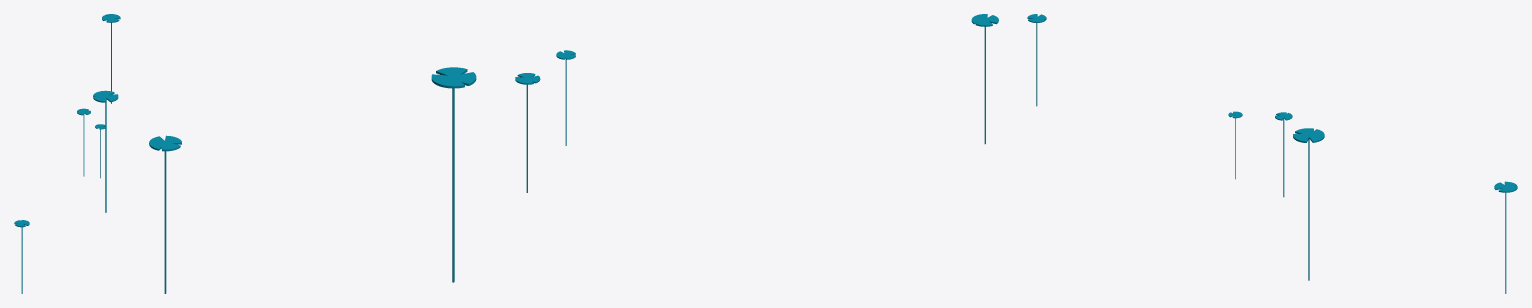
The model's file is lilygroup6.fbx.
The picture shows the model from 3 angles, left to right: view 1: azimuth 30°, elevation 25°; view 2: azimuth 150°, elevation 25°; view 3: azimuth 270°, elevation 25°; orthographic projection. The views are drawn at different scales.
Parts seen in each view (by area): view 1: LilyPad1 (2), LilyPad1 (6), LilyPad1 (5), LilyPad1 (3), LilyPad1 (4); view 2: LilyPad1 (2), LilyPad1 (5); view 3: LilyPad1 (2), LilyPad1 (5).
Boxes of the visible parts, x1,y1,x2,y2 form: LilyPad1 (2): (93,90,118,212); LilyPad1 (6): (14,220,29,293); LilyPad1 (5): (102,14,120,103); LilyPad1 (3): (77,108,90,176); LilyPad1 (4): (95,124,106,178); LilyPad1 (2): (431,67,476,282); LilyPad1 (5): (149,135,181,293); LilyPad1 (2): (1293,128,1324,280); LilyPad1 (5): (1494,181,1517,293).
Size of the model in its own units: 21.31 by 8.13 by 24.84.
